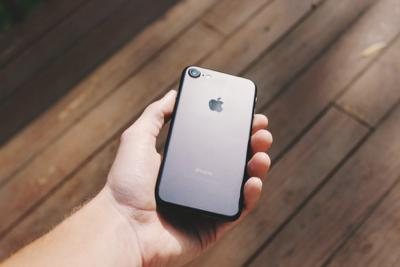cell-phone: (154, 62, 257, 224)
